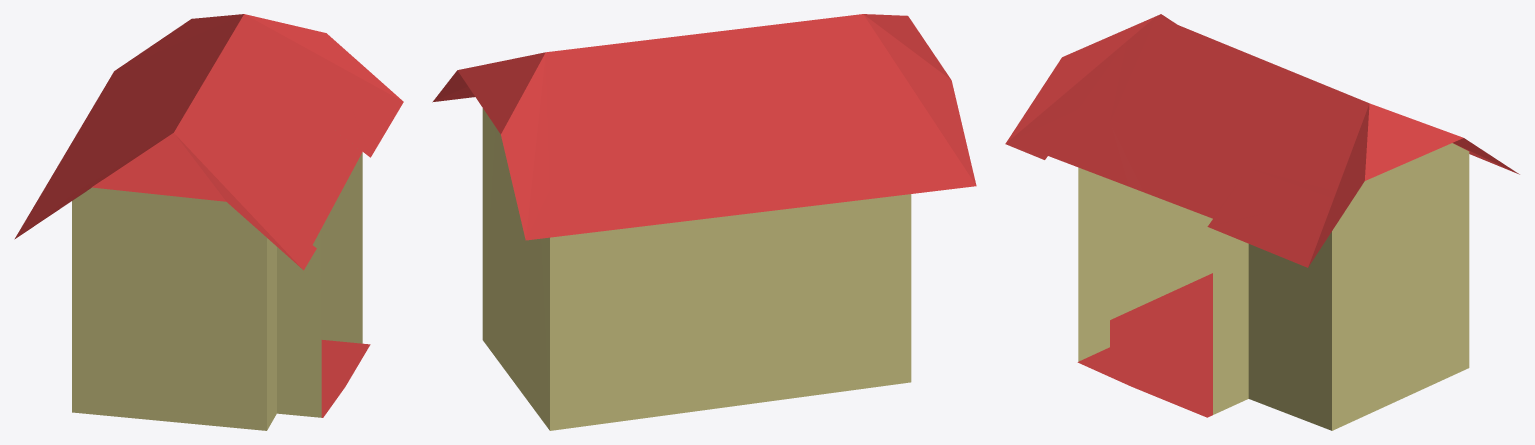
3 renders of one model, left to right at view 1: azimuth 30°, elevation 25°; view 2: azimuth 150°, elevation 25°; view 3: azimuth 270°, elevation 25°, orthographic. The views are drawn at different scales.
Visible parts, largest first — view 1: group_5, group_3, group_6, group_4; view 2: group_3, group_5; view 3: group_5, group_3, group_6, group_4.
Part boxes in pixels (x1=…): group_5: x1=72, y1=152, x2=362, y2=430; group_3: x1=14, y1=14, x2=403, y2=270; group_6: x1=321, y1=340, x2=370, y2=417; group_4: x1=217, y1=65, x2=382, y2=268; group_3: x1=432, y1=14, x2=976, y2=240; group_5: x1=482, y1=108, x2=911, y2=430; group_5: x1=1078, y1=143, x2=1469, y2=430; group_3: x1=1005, y1=14, x2=1519, y2=267; group_6: x1=1077, y1=273, x2=1212, y2=417; group_4: x1=1007, y1=52, x2=1333, y2=243.
Size of the model in its own units: 17.2 by 17.29 by 10.76.
